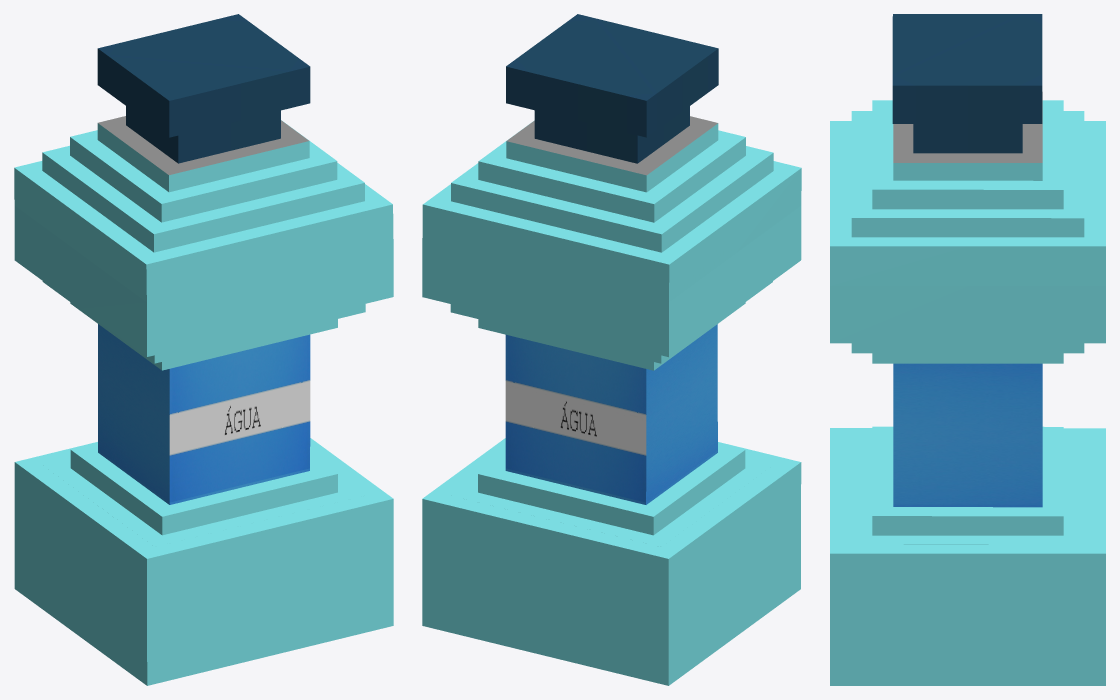
File: agua.FBX
3 views of the same model, side by side, from view 1: azimuth 30°, elevation 25°; view 2: azimuth 150°, elevation 25°; view 3: azimuth 270°, elevation 25° (orthographic). The views are drawn at different scales.
Visible parts, largest first — view 1: Box023; view 2: Box023; view 3: Box023.
Part boxes in pixels (<box>): Box023: <box>14,14,393,685</box>; Box023: <box>422,14,801,685</box>; Box023: <box>830,14,1105,685</box>.
Size of the model in its own units: 141 by 299 by 130.
